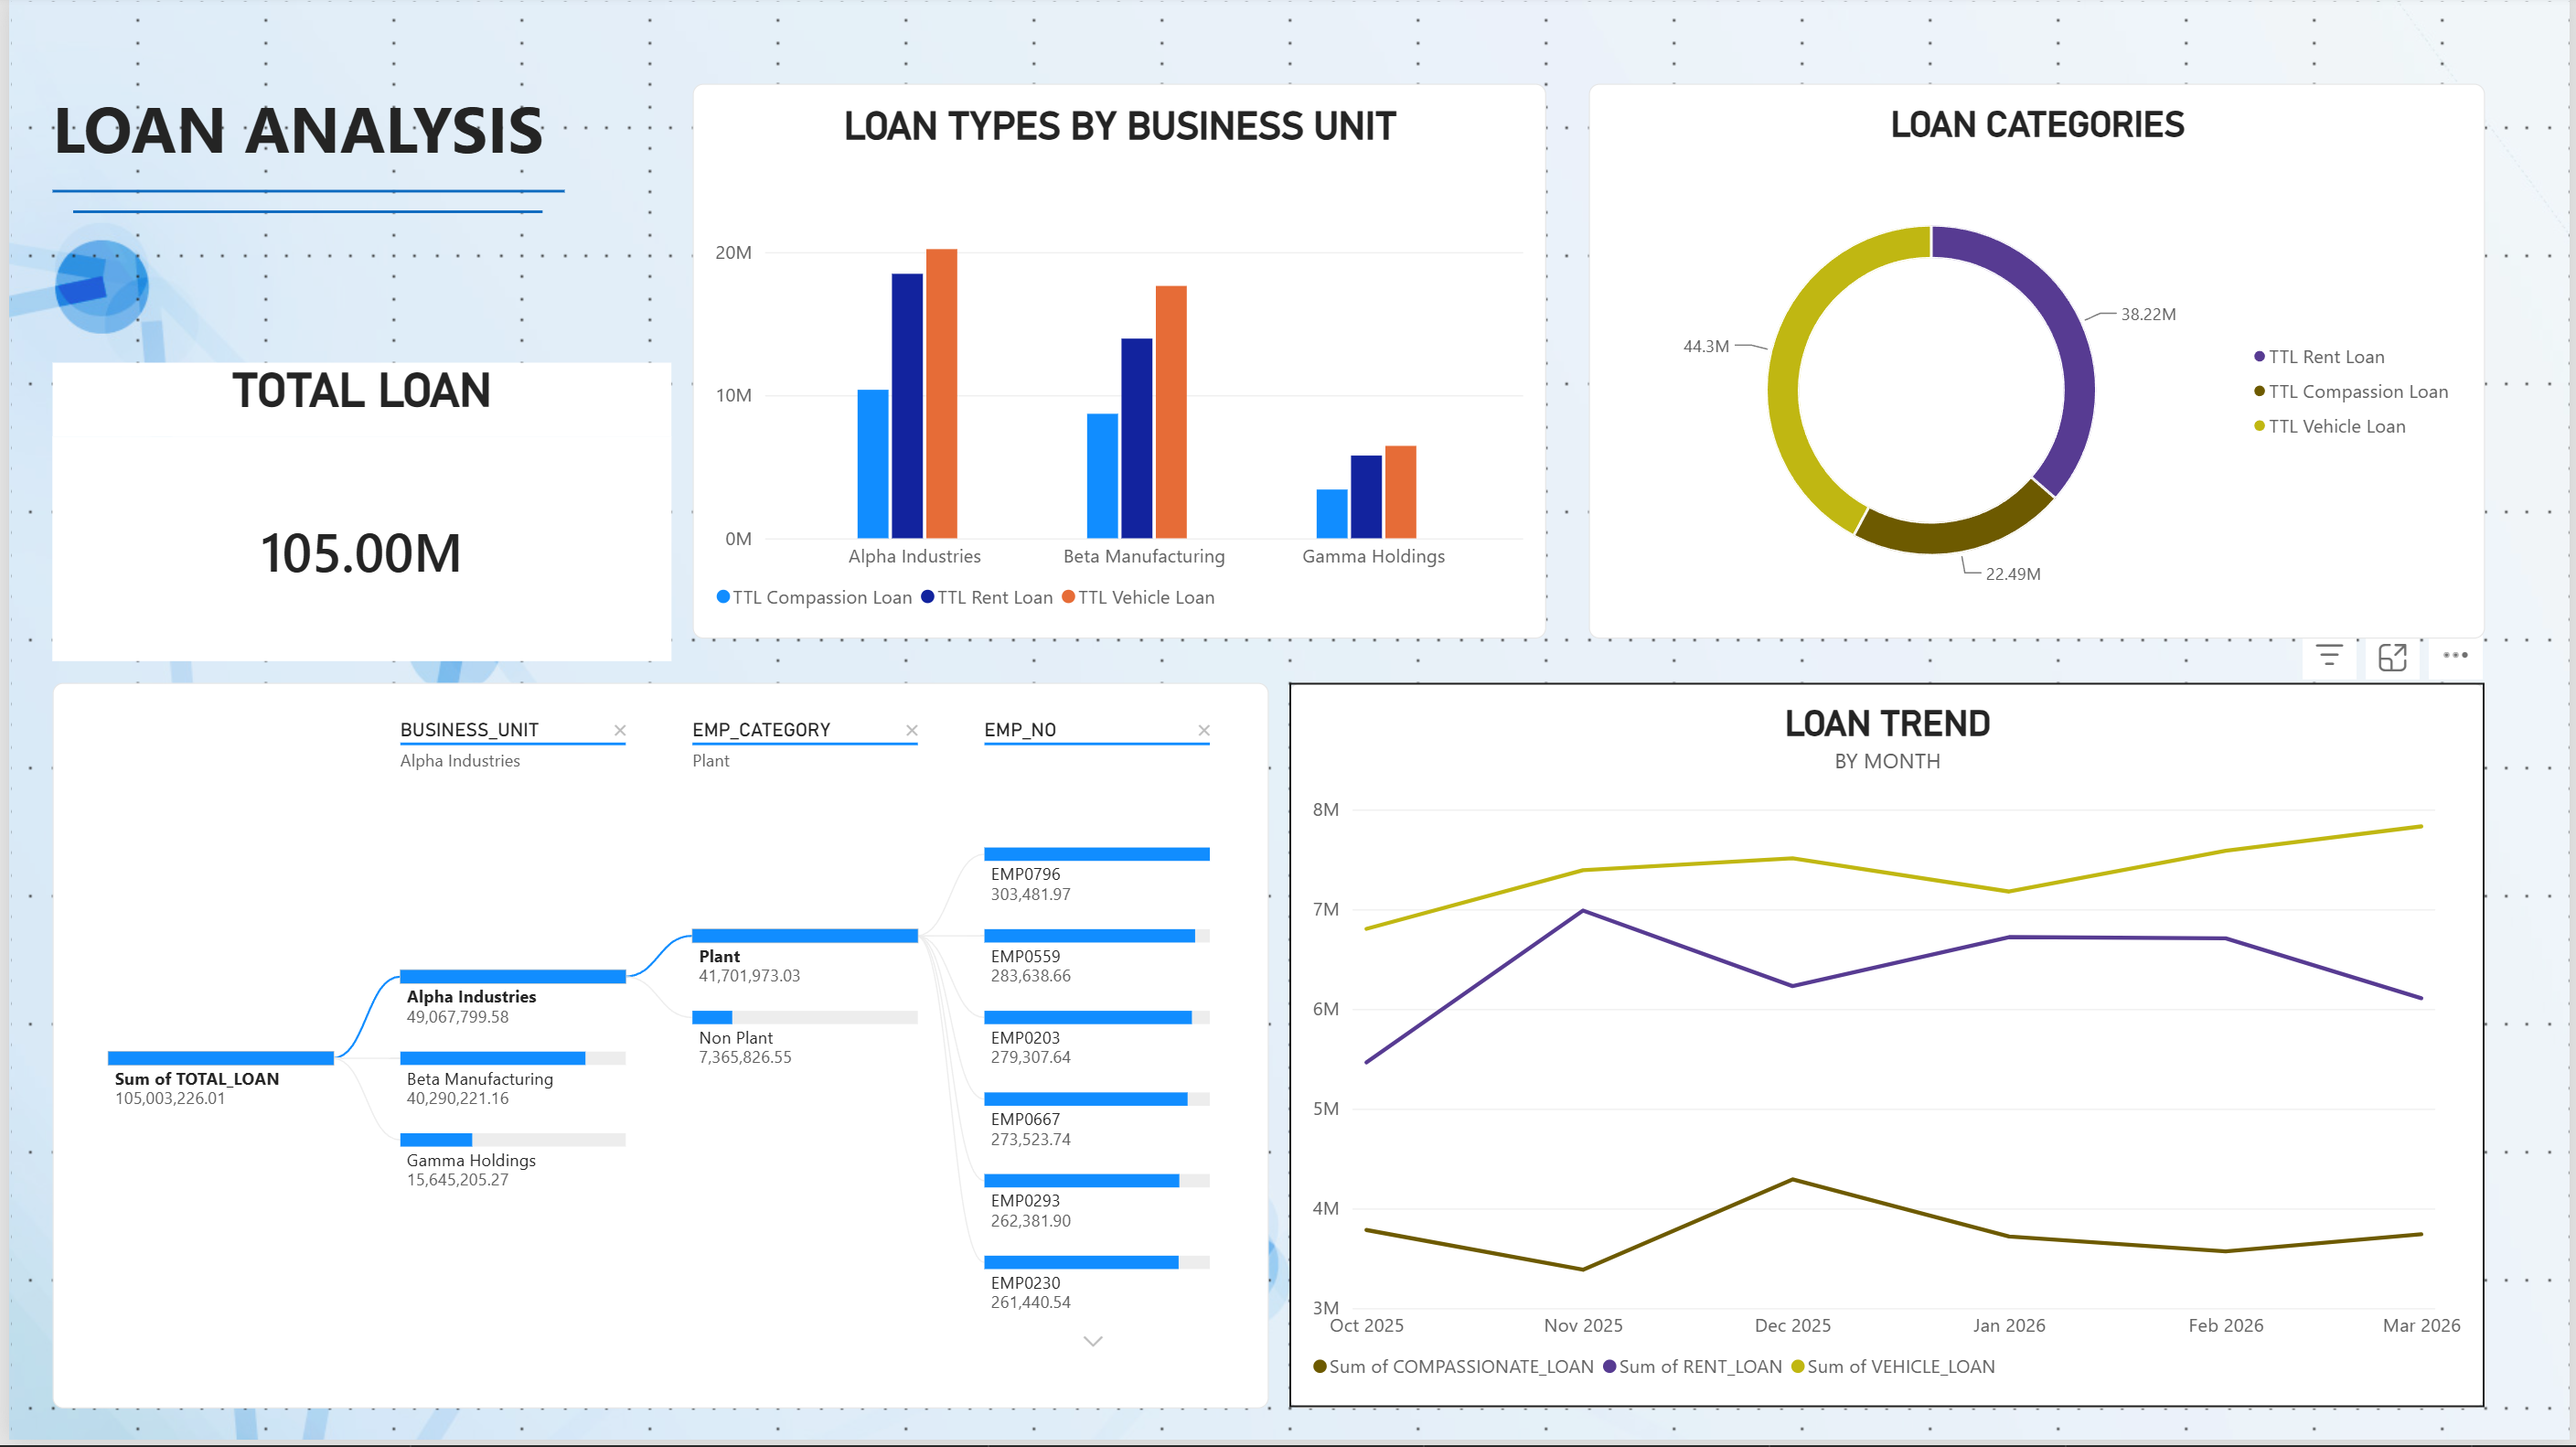

The page's visual inventory and layout, read from the dashboard file:
{"tool":"powerbi","page":{"name":"LOAN ANALYSIS","canvas":[1920,1080],"ordinal":4},"visuals":[{"type":"lineChart","title":"LOAN TREND","fields":{"Category":["Salary Data.MONTH_YEAR"],"Y":["Sum(Salary Data.COMPASSIONATE_LOAN)","Sum(Salary Data.RENT_LOAN)","Sum(Salary Data.VEHICLE_LOAN)"]},"box":[960,512,896,544],"z":0},{"type":"donutChart","title":"LOAN CATEGORIES","fields":{"Y":["Deductions.TTL Rent Loan","Deductions.TTL Compassion Loan","Deductions.TTL Vehicle Loan"]},"box":[1184,64,672,416],"z":1000},{"type":"clusteredColumnChart","title":"LOAN TYPES BY BUSINESS UNIT","fields":{"Category":["Salary Data.BUSINESS_UNIT"],"Y":["Deductions.TTL Compassion Loan","Deductions.TTL Rent Loan","Deductions.TTL Vehicle Loan"]},"box":[512,64,640,416],"z":2000},{"type":"decompositionTreeVisual","fields":{"Analyze":["Sum(Salary Data.TOTAL_LOAN)"],"ExplainBy":["Salary Data.BUSINESS_UNIT","Salary Data.EMP_CATEGORY","Salary Data.EMP_NO"]},"box":[32,512,912,544],"z":3000},{"type":"cardVisual","title":"TOTAL LOAN","fields":{"Data":["Gross Sal and Dedn.LOAN TTL"]},"box":[32,272,464,224],"z":4000},{"type":"textbox","box":[32,64,464,192],"z":5000},{"type":"shape","box":[32,0,384,288],"z":6000},{"type":"shape","box":[48,16,352,288],"z":7000}]}

Visuals, with their boxes in screenshot pixels (x1, y1, x2, y2), scaled from the page's 1920x1080 canvas onto the 2576x1447 screenshot:
"LOAN TREND" lineChart: [left=1288, top=686, right=2490, bottom=1415]
"LOAN CATEGORIES" donutChart: [left=1588, top=86, right=2490, bottom=643]
"LOAN TYPES BY BUSINESS UNIT" clusteredColumnChart: [left=687, top=86, right=1545, bottom=643]
decompositionTreeVisual - Sum(Salary Data.TOTAL_LOAN) x Salary Data.BUSINESS_UNIT: [left=43, top=686, right=1267, bottom=1415]
"TOTAL LOAN" cardVisual: [left=43, top=364, right=666, bottom=665]
textbox: [left=43, top=86, right=666, bottom=343]
shape: [left=43, top=0, right=558, bottom=386]
shape: [left=64, top=21, right=537, bottom=407]
